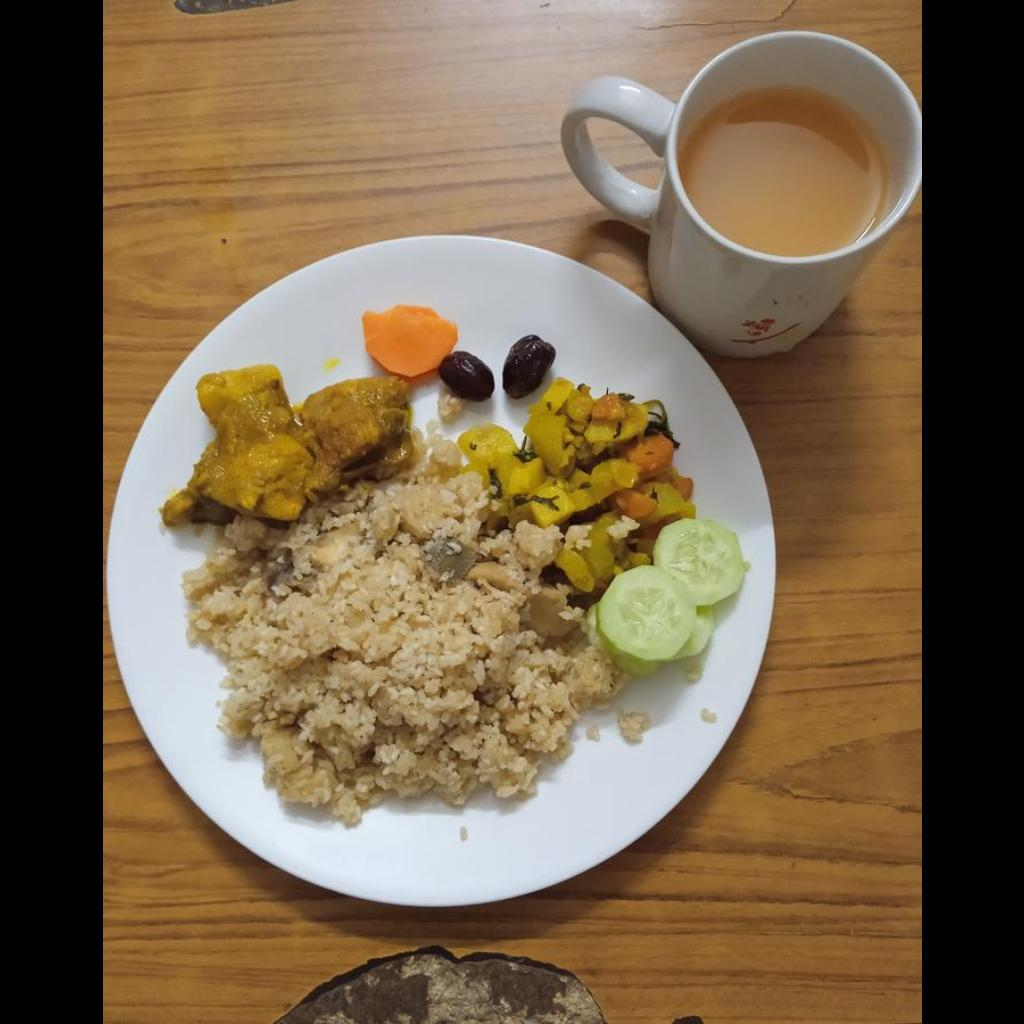biriyani: (176, 468, 625, 834)
carrot: (361, 304, 457, 379)
chicken: (162, 365, 410, 526)
cucumber: (596, 513, 746, 665)
dates: (501, 336, 554, 398), (437, 349, 492, 402)
juice: (679, 81, 890, 254)
vegetable: (457, 379, 694, 597)
